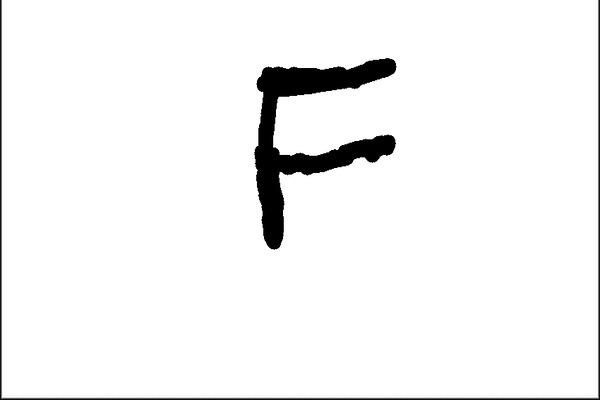F: (248, 53, 402, 253)
